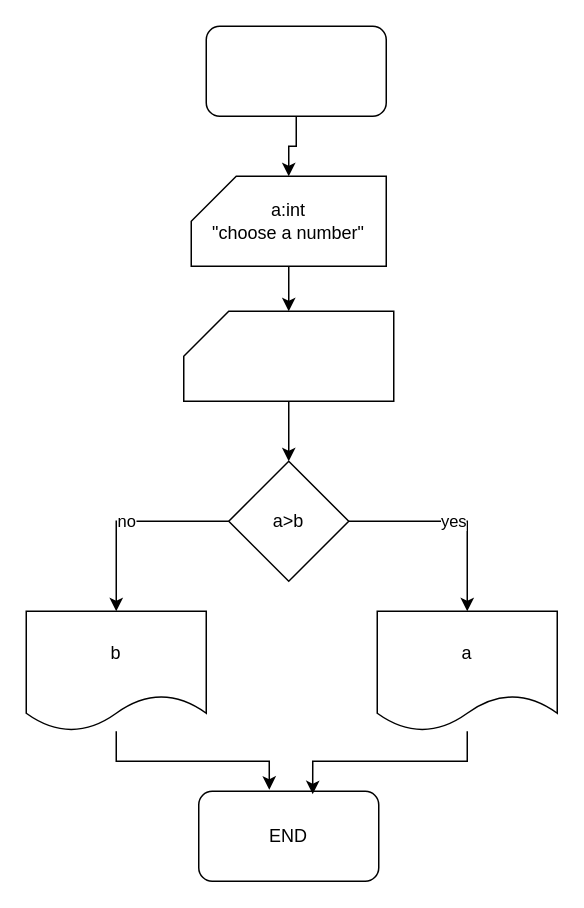
This 584x908 diagram has some shape labels left out. The box of each missing label's shape, as (x1, y1, x2, y2) in pixels:
b:int "choose a number: (182, 310, 394, 401)
START: (205, 25, 386, 116)
